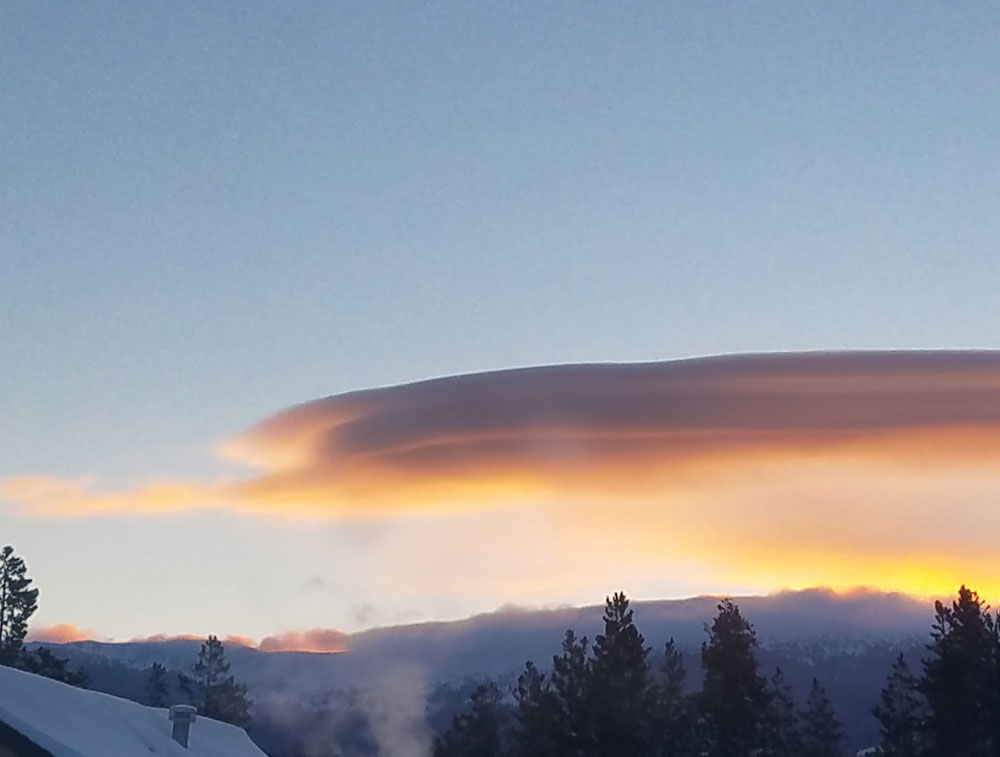Stratus: (171, 299, 1000, 533)
